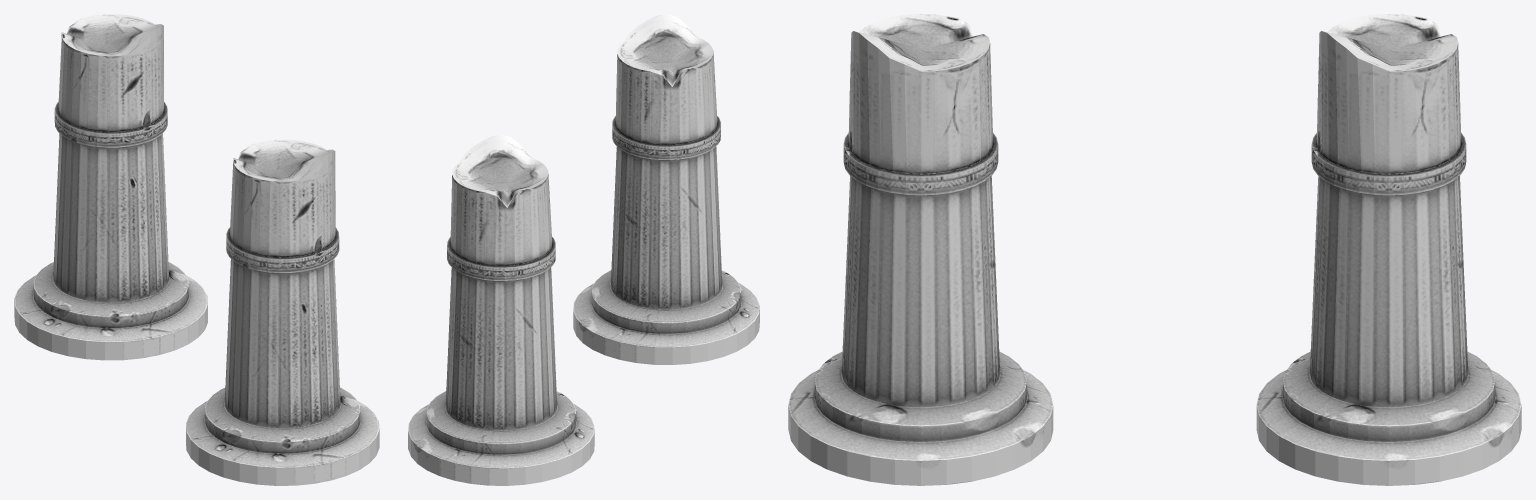
File: pillars.glb
The picture shows the model from 3 angles, left to right: view 1: azimuth 30°, elevation 25°; view 2: azimuth 150°, elevation 25°; view 3: azimuth 270°, elevation 25°; orthographic projection. The views are drawn at different scales.
Visible parts, largest first — view 1: PillarsHalf; view 2: PillarsHalf; view 3: PillarsHalf.
Part boxes in pixels (left/top/right/bottom): PillarsHalf: left=14, top=14, right=379, bottom=485; PillarsHalf: left=408, top=14, right=759, bottom=485; PillarsHalf: left=788, top=14, right=1521, bottom=485.
Bounding box in the file's own units: 8.89 × 15.24 × 24.6.
Materials: 1 (1 with a texture image).
